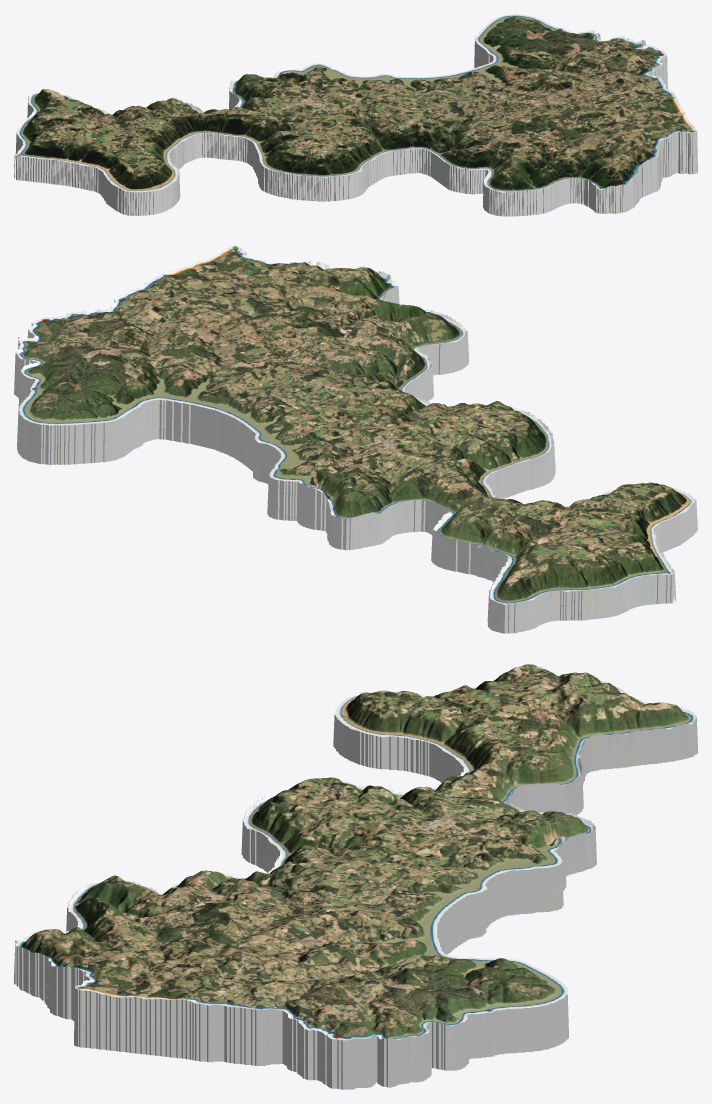
The picture shows the model from 3 angles, top to bottom: view 1: azimuth 30°, elevation 25°; view 2: azimuth 150°, elevation 25°; view 3: azimuth 270°, elevation 25°; orthographic projection. The views are drawn at different scales.
Bounding box in the file's own units: 1 × 0.0719 × 0.7326.
Materials: 1 (1 with a texture image).
